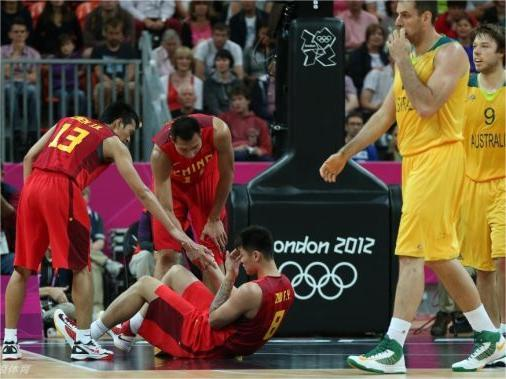bending: (1, 104, 150, 361), (143, 112, 232, 290)
down: (58, 227, 293, 357)
up: (327, 1, 488, 373), (455, 18, 505, 342)
